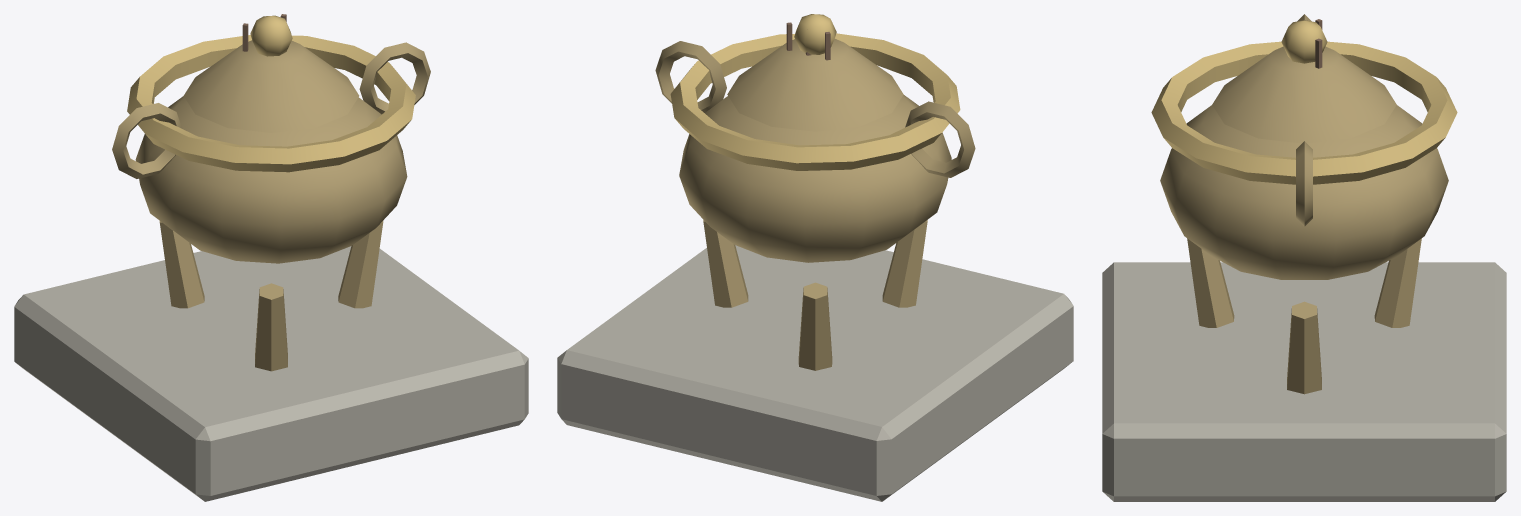
File: incense_burner.glb
3 renders of one model, left to right at view 1: azimuth 30°, elevation 25°; view 2: azimuth 150°, elevation 25°; view 3: azimuth 270°, elevation 25°, orthographic. The views are drawn at different scales.
Visible parts, largest first — view 1: Incense; view 2: Incense; view 3: Incense.
Part boxes in pixels (x1,y1,x2,y2): Incense: (14, 14, 528, 501); Incense: (557, 14, 1073, 501); Incense: (1102, 14, 1506, 501).
Size of what is drawn, in the model's own units: 1.4 by 1.53 by 1.4.
